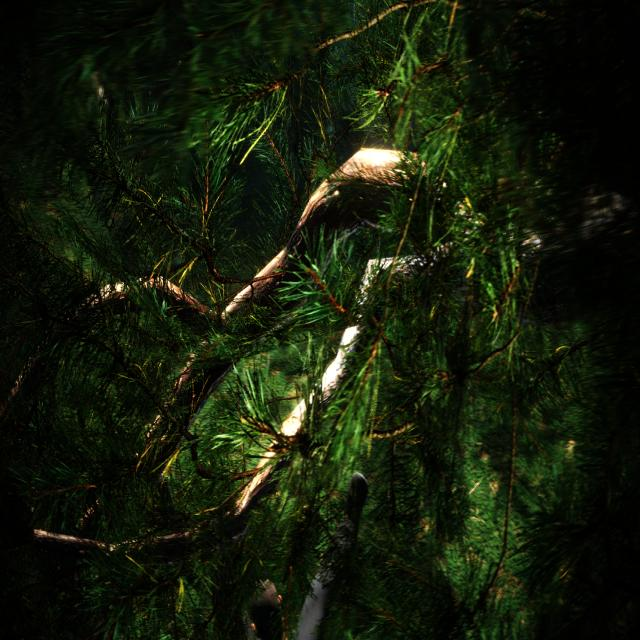Human: (209, 469, 367, 640)
